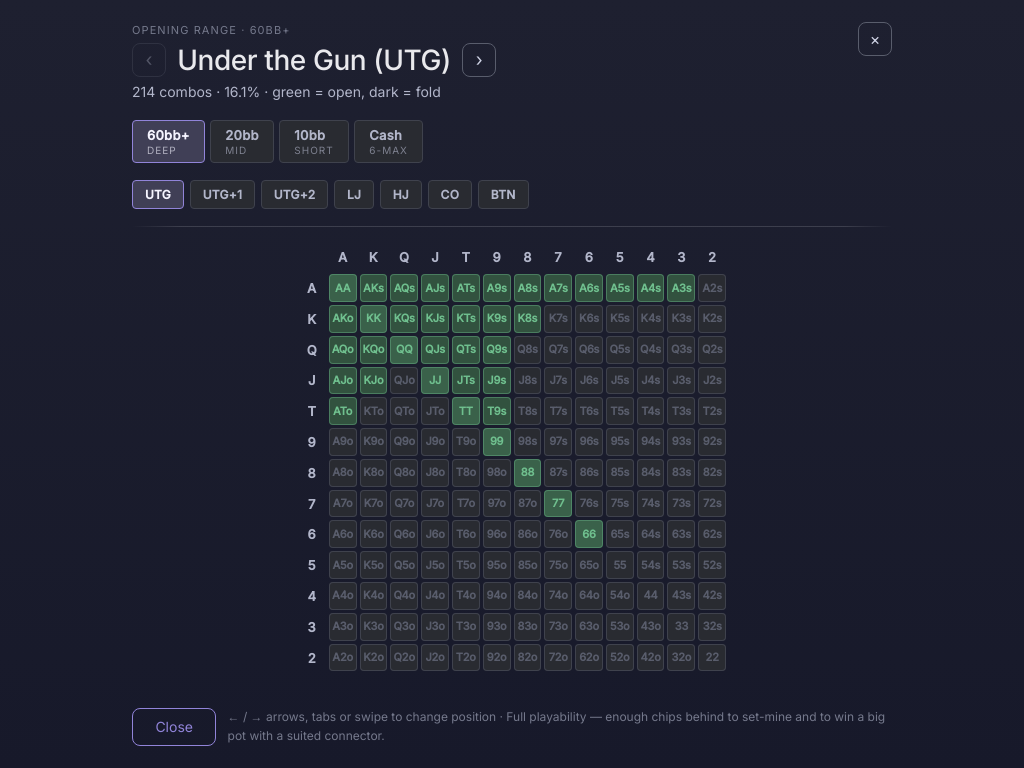
Test case: RangeSheet navigation › tab strip jumps straight to a position
What coordinates should you click on to do the following:
click the tab "CO"
I would click on:
 (450, 194)
Its box is x1=428 y1=180 x2=472 y2=209.
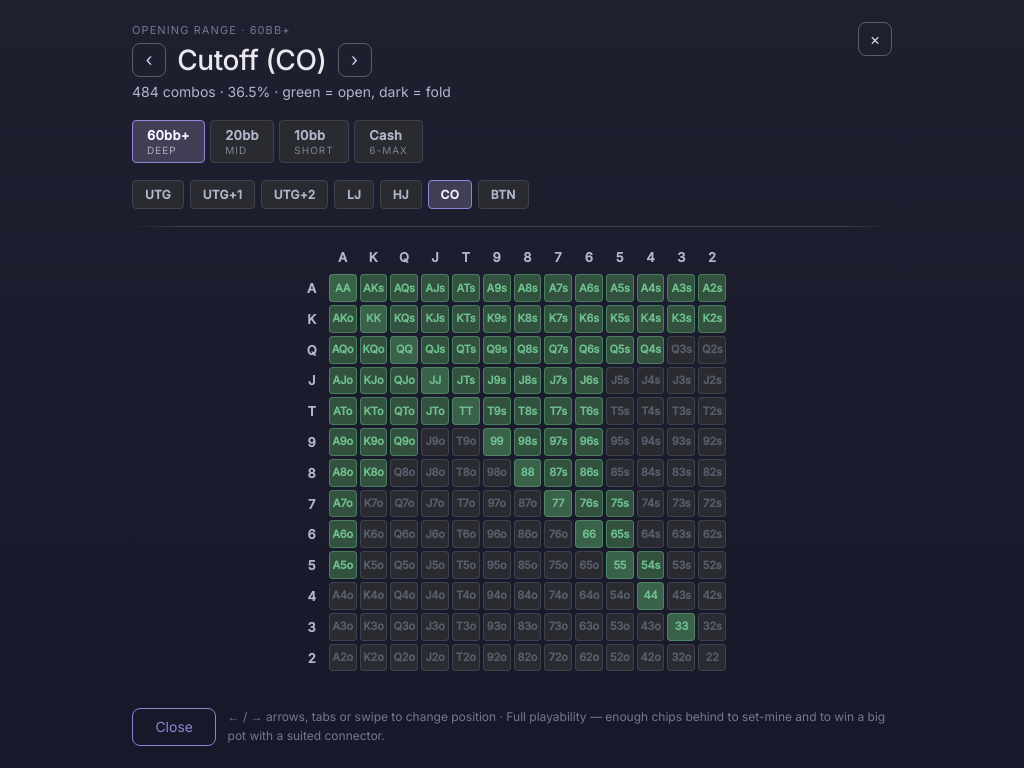
expect the heading shows "Cutoff": met, box x1=177 y1=43 x2=326 y2=77
